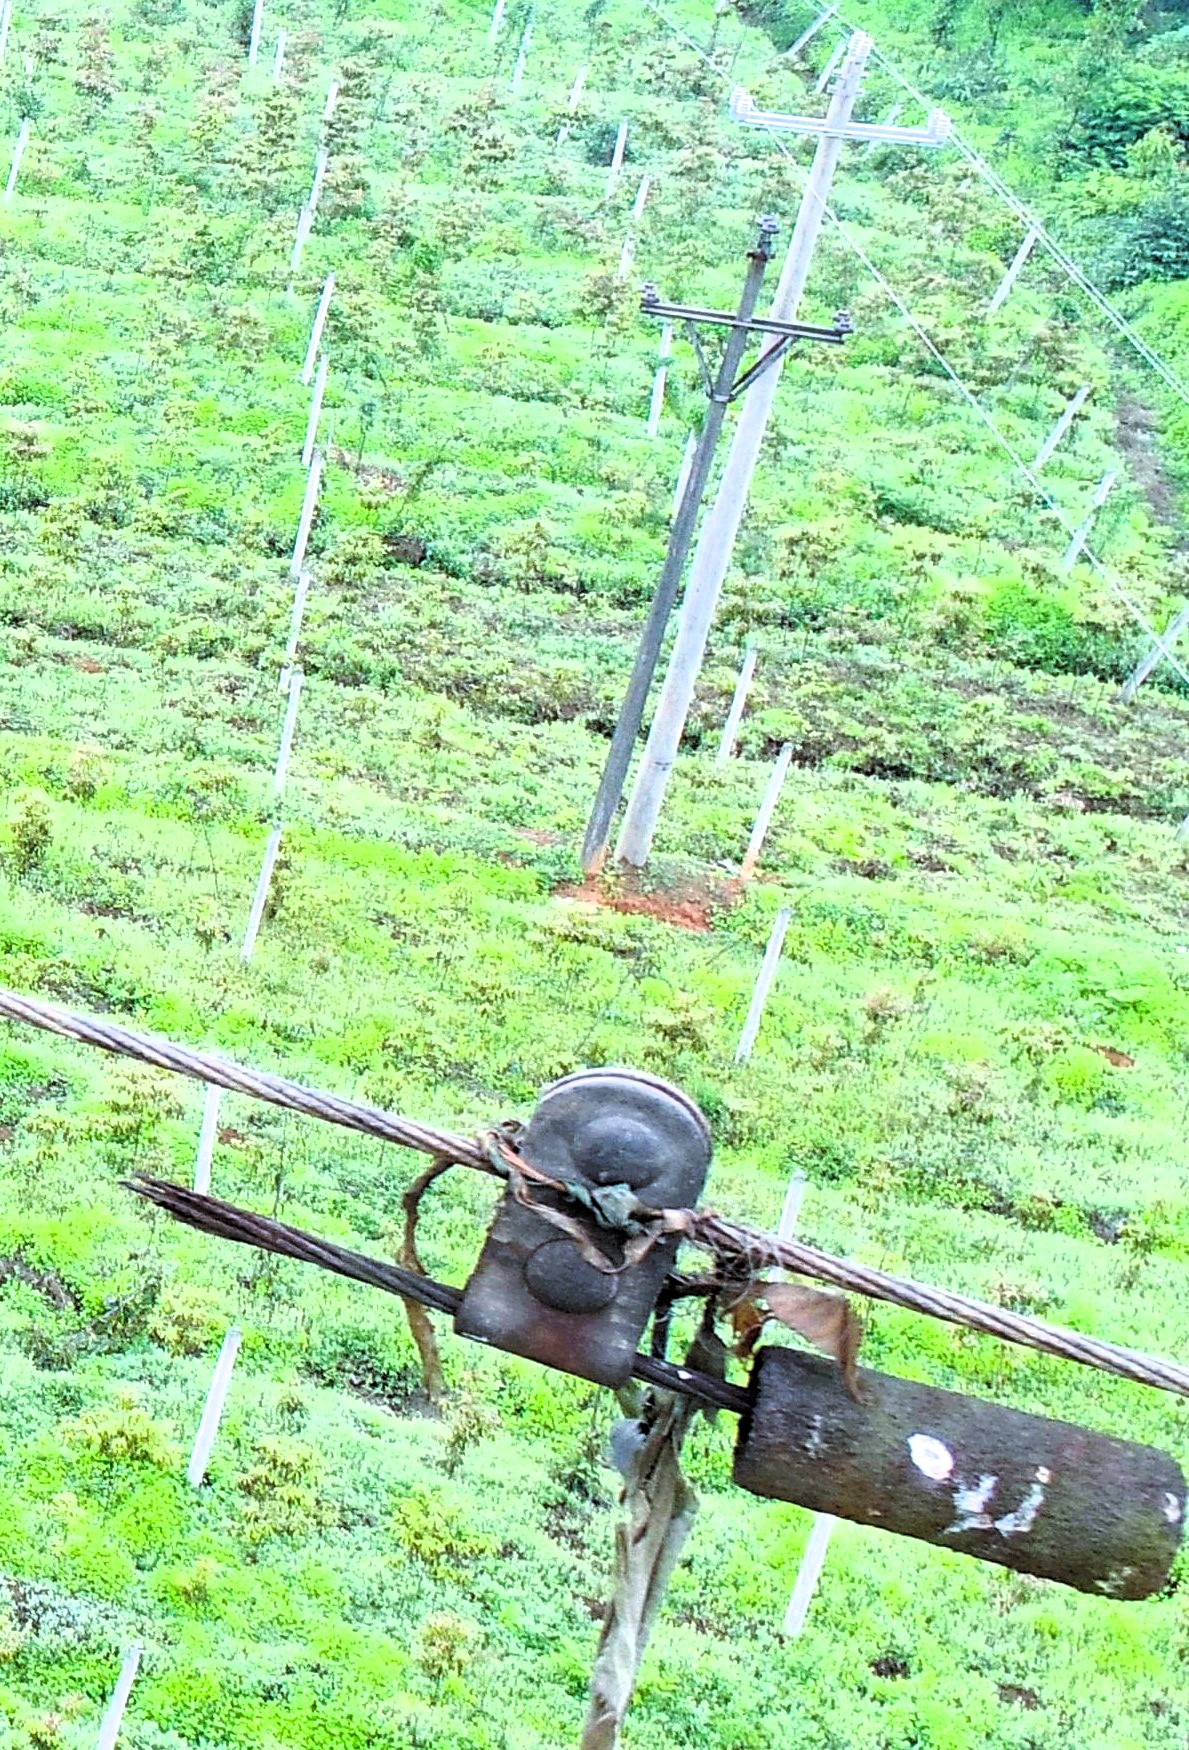Damage of shockproof hammer: (84, 1014, 1189, 1613)
